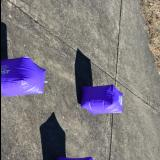cube: (0, 56, 46, 96), (80, 84, 122, 114), (55, 157, 93, 160)
